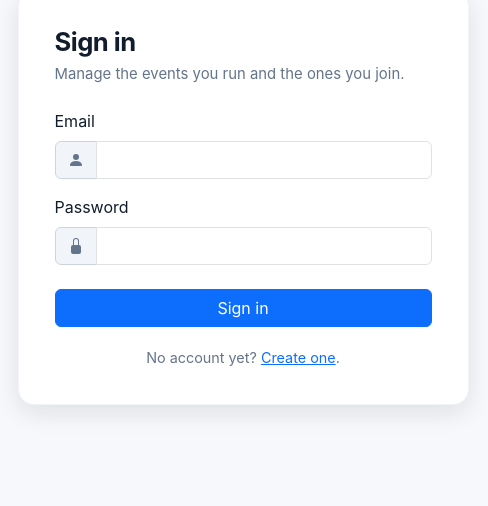
Test: SignIn › does not sign anyone in when the credentials are rejected
Type "ada@example.com" into the field labelled "Email" at [264, 160], box [96,141,432,179]
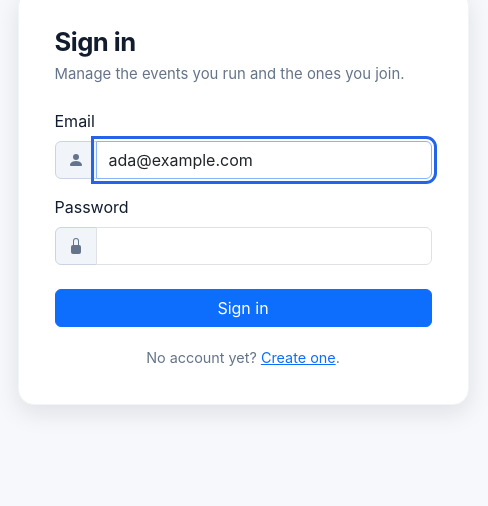
Type "wrong" into the password field labelled "Password" at [264, 246], box [96,227,432,265]
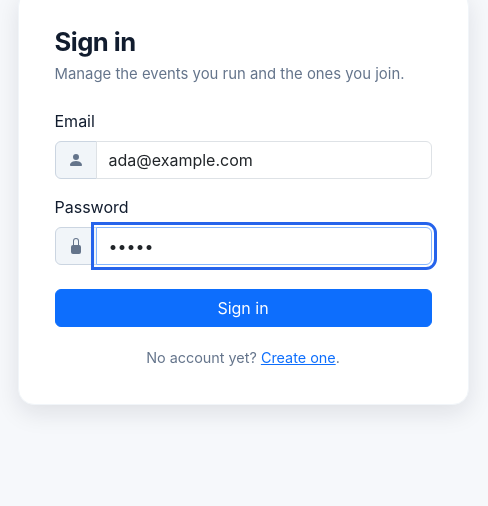
Click the button "Sign in" at [243, 308], box [54,289,432,327]
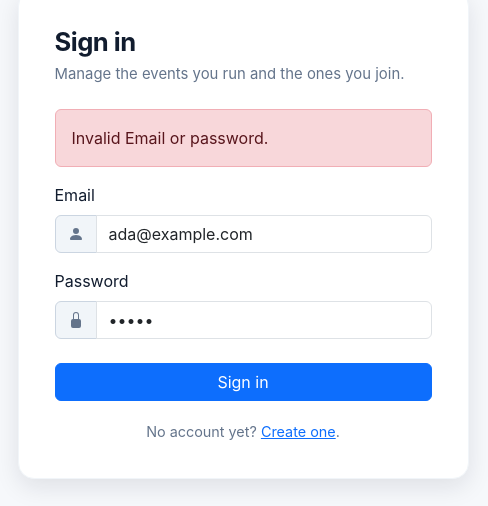
Expected: the message reads "Invalid Email or password.", [72,128,268,148]
